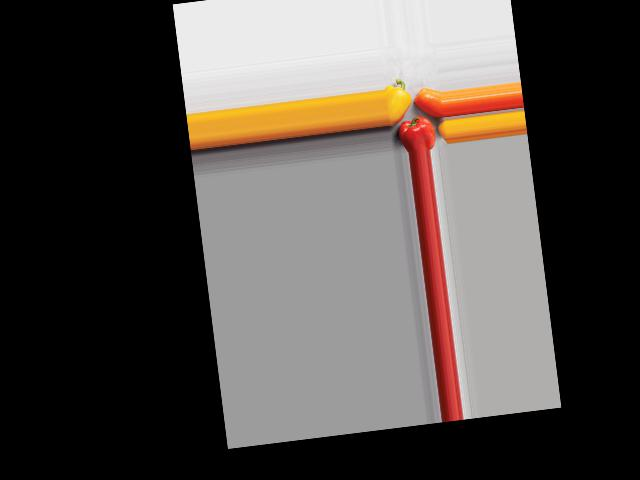bell_pepper: (394, 115, 436, 152)
